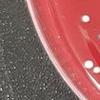white: (78, 13, 93, 26), (82, 57, 94, 71), (91, 64, 100, 75), (96, 32, 100, 42)
